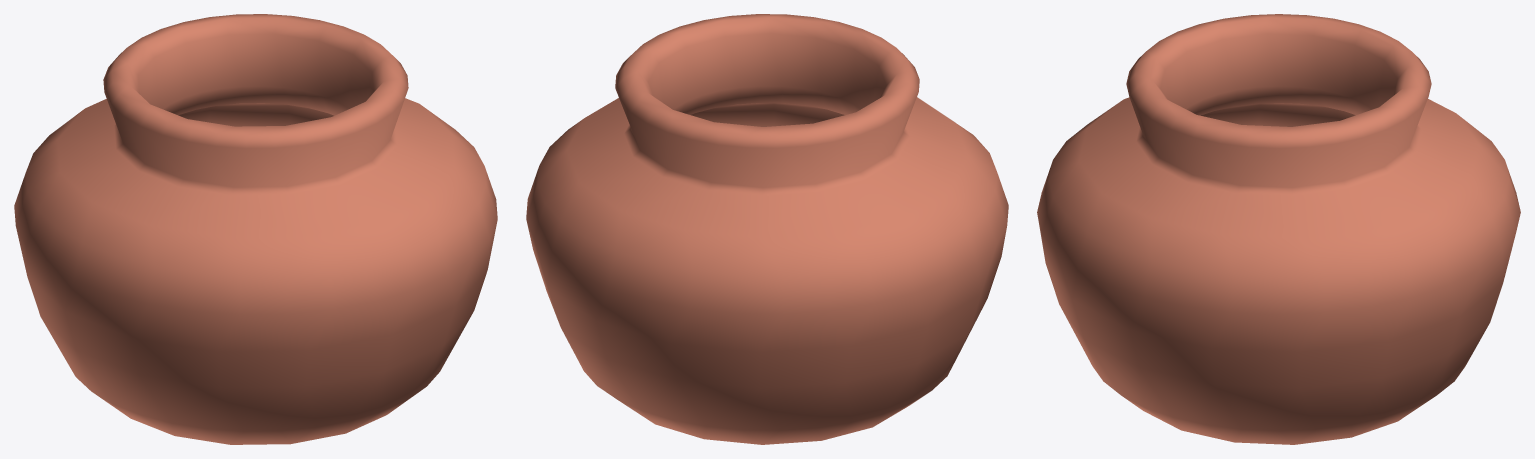
File: ClayPot_01 1.fbx
The picture shows the model from 3 angles, left to right: view 1: azimuth 30°, elevation 25°; view 2: azimuth 150°, elevation 25°; view 3: azimuth 270°, elevation 25°; orthographic projection.
Parts seen in each view (by area): view 1: ClayPot_01; view 2: ClayPot_01; view 3: ClayPot_01.
Part boxes in pixels (x1,y1,x2,y2): ClayPot_01: (14, 14, 497, 444); ClayPot_01: (526, 14, 1008, 444); ClayPot_01: (1037, 14, 1520, 444).
Size of the model in its own units: 37.18 by 26.09 by 37.18.
